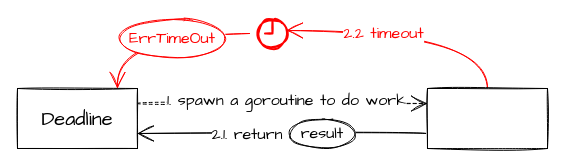
The diagram is 565 pixels wide and 166 high, and some of its shapes have lost their labels. The box of each missing label's shape, as (x1, y1, x2, y2) in pixels:
stopper: (256, 17, 288, 49)
Work: (426, 88, 548, 148)
